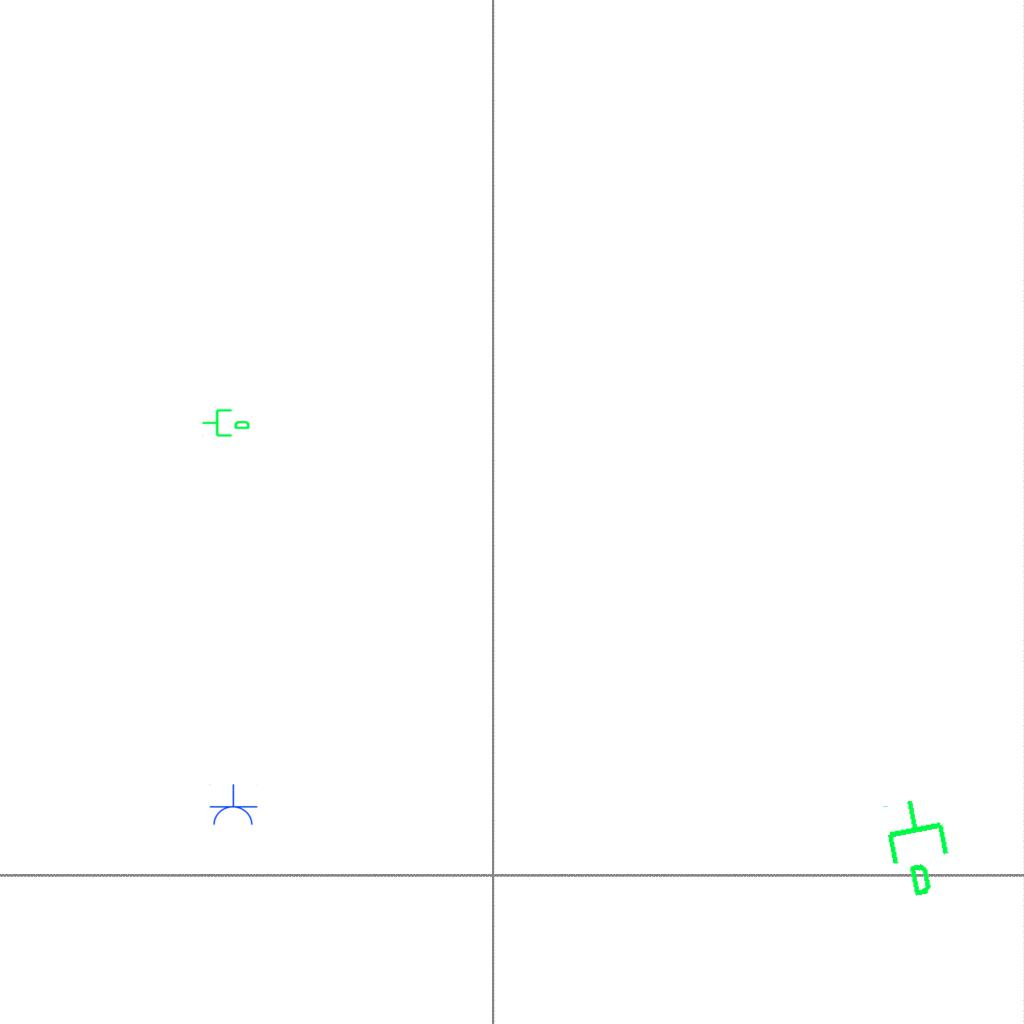Datenanschluss_einfach: (877, 791, 964, 903), (201, 405, 251, 439)
Schukosteckdose_einfach: (208, 784, 258, 827)
